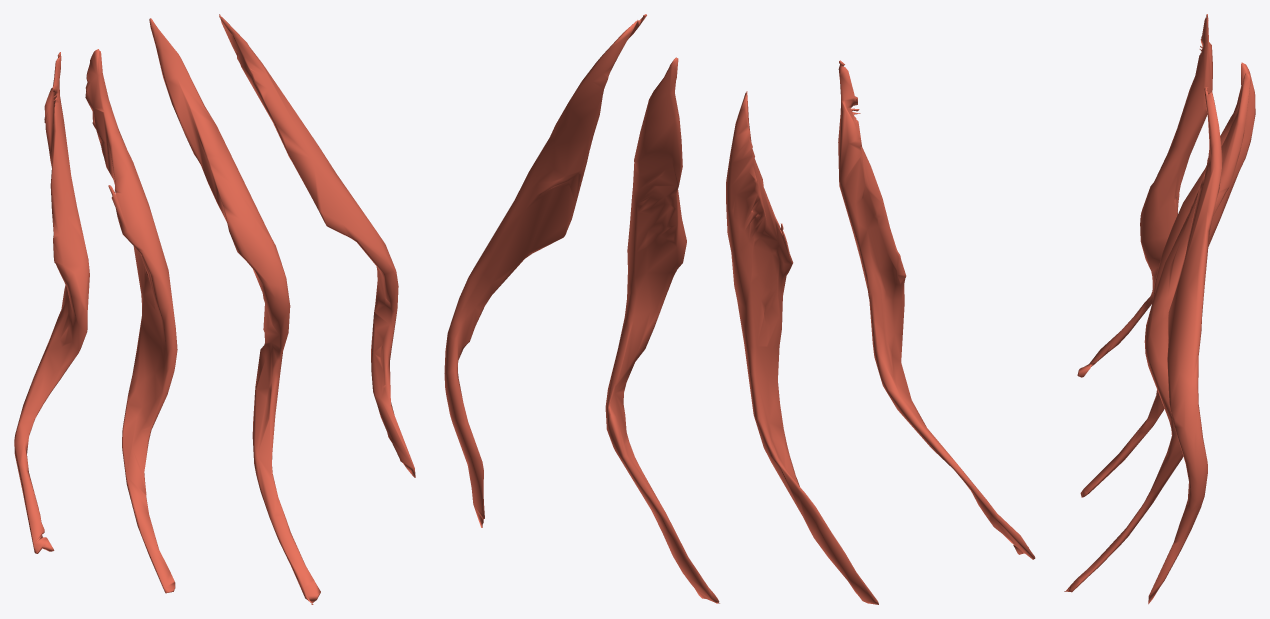
File: lumbricals.glb
3 views of the same model, side by side, from view 1: azimuth 30°, elevation 25°; view 2: azimuth 150°, elevation 25°; view 3: azimuth 270°, elevation 25° (orthographic). The views are drawn at different scales.
Visible parts, largest first — view 1: Lumbricals muscles of hand.l; view 2: Lumbricals muscles of hand.l; view 3: Lumbricals muscles of hand.l.
Part boxes in pixels (x1=…): Lumbricals muscles of hand.l: x1=14, y1=14, x2=415, y2=604; Lumbricals muscles of hand.l: x1=444, y1=14, x2=1035, y2=604; Lumbricals muscles of hand.l: x1=1064, y1=14, x2=1255, y2=604.
Bounding box in the file's own units: 0.0758 × 0.093 × 0.0323.
